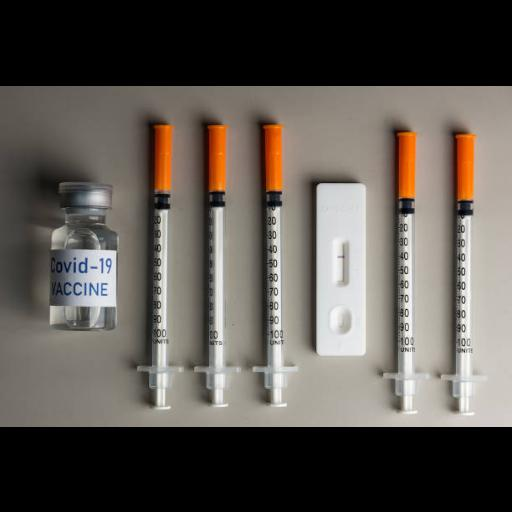Neg: (316, 181, 364, 355)
